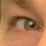eye: (26, 20, 36, 30)
